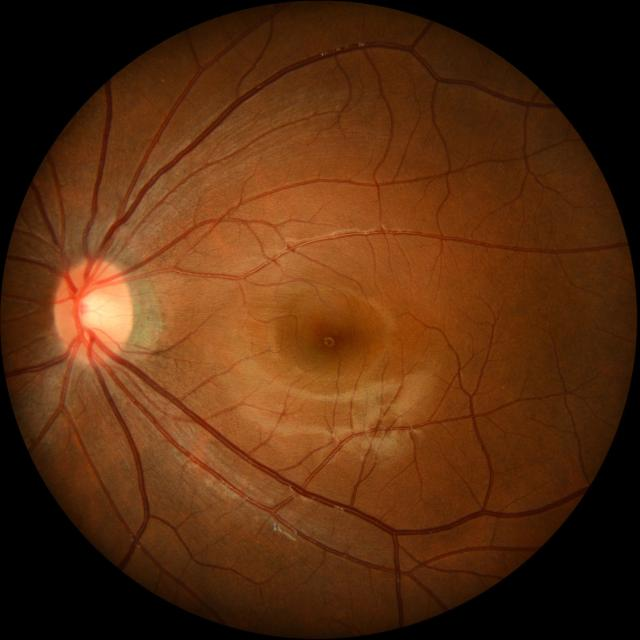OC: (76, 288, 114, 334)
OD: (52, 259, 132, 363)
